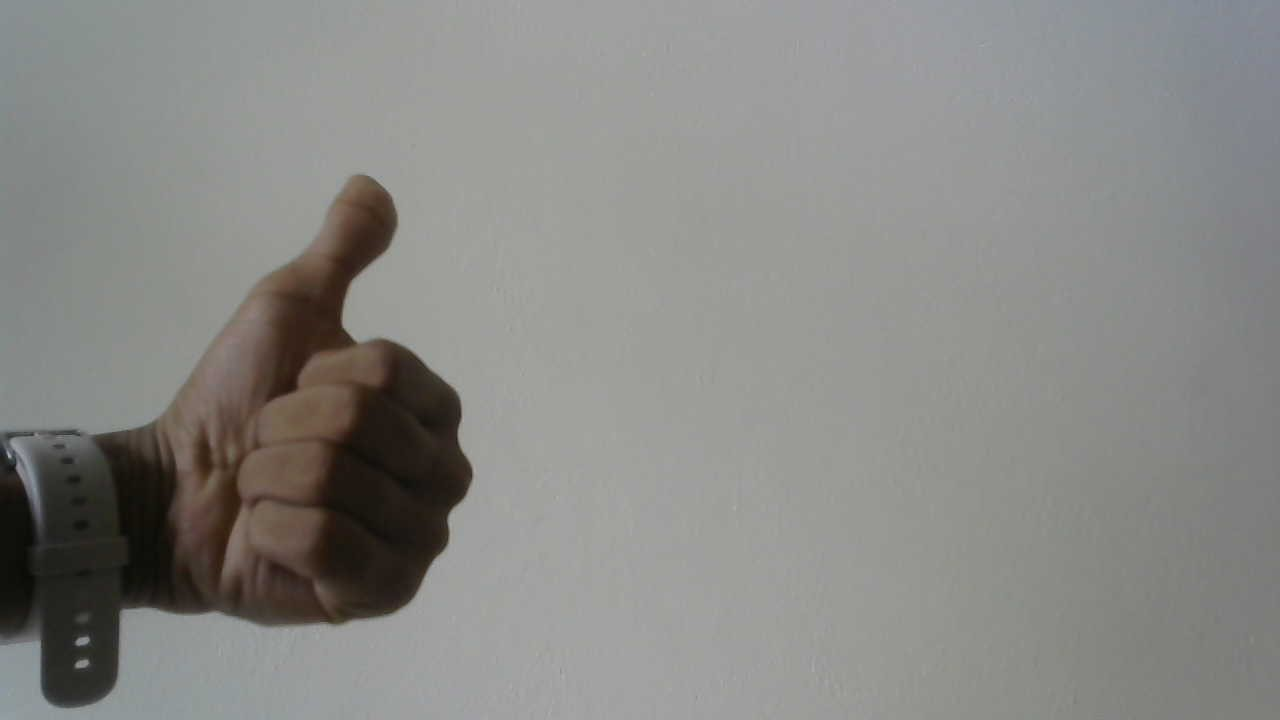thumbsup: (150, 162, 483, 641)
